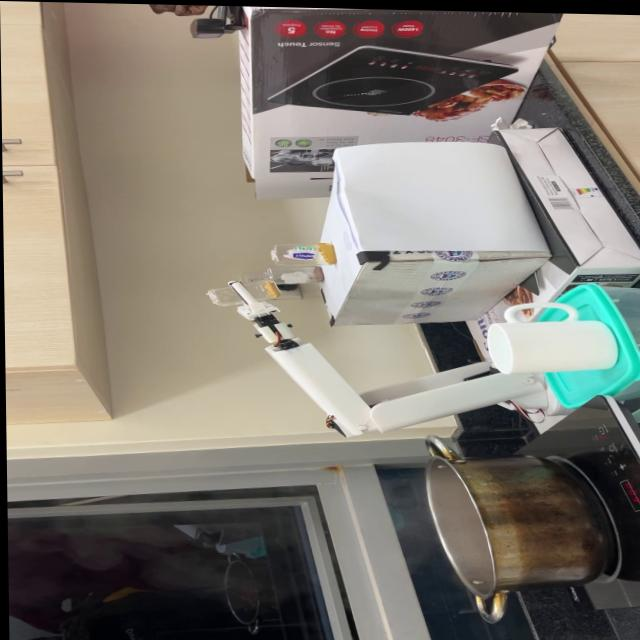cooking_pot: (417, 433, 612, 622)
curry_powder: (314, 241, 338, 261)
garlic_powder: (263, 278, 283, 296)
maggie_open: (307, 262, 323, 284)
